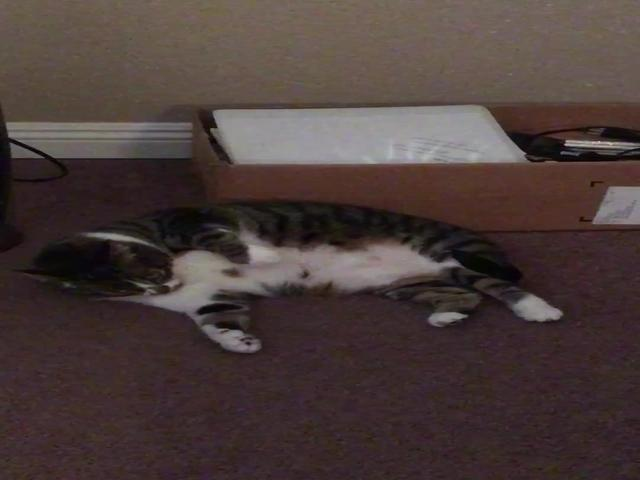playdoh: (12, 197, 566, 355)
